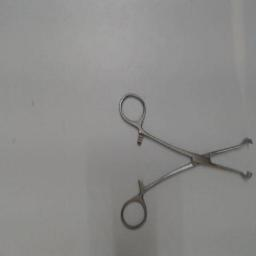Babcock Tissue Forceps: (116, 85, 254, 233)
